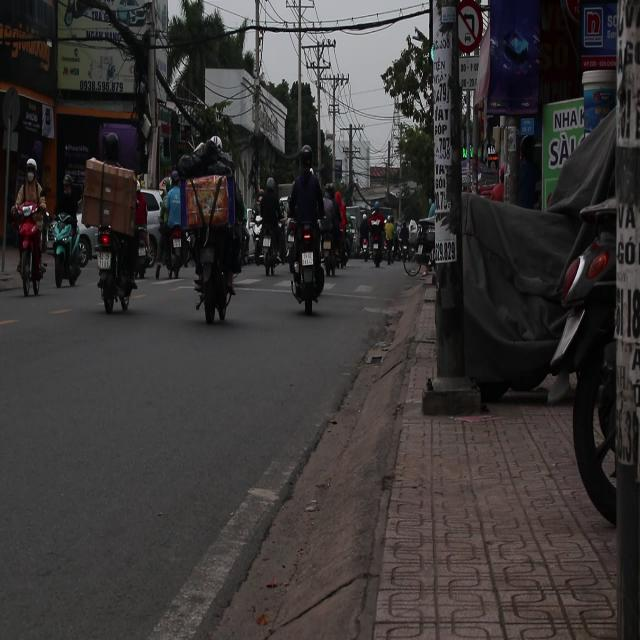car: (136, 190, 164, 276)
motorbike: (13, 190, 88, 294), (190, 220, 242, 326), (287, 214, 328, 315), (96, 226, 141, 313), (50, 204, 90, 290)
